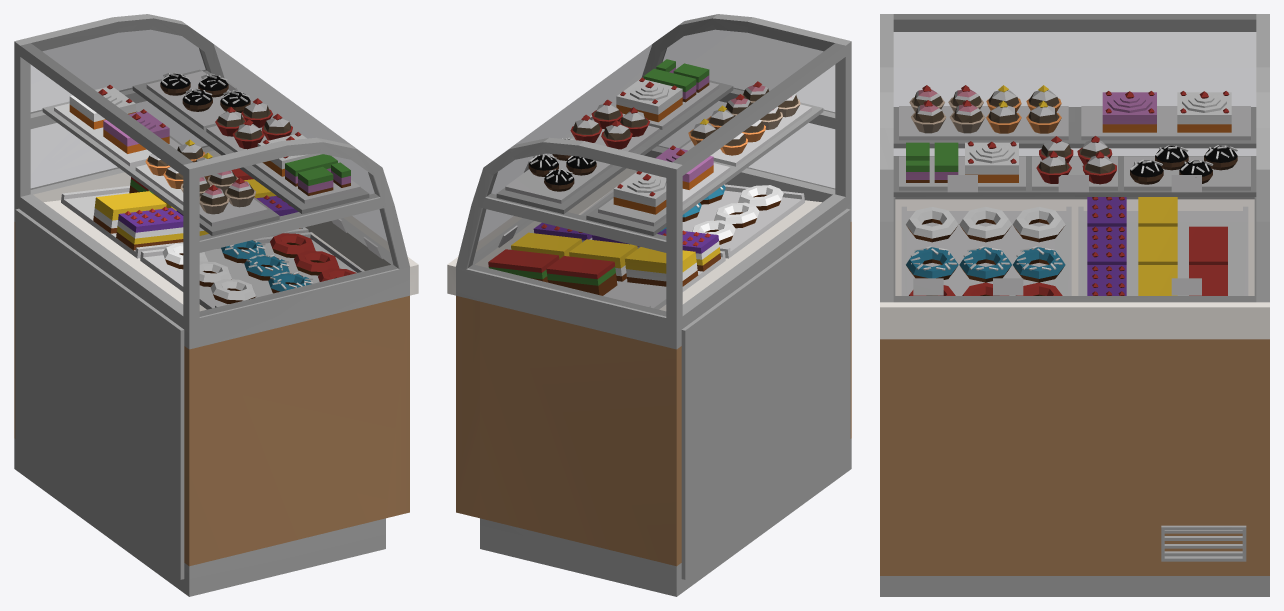
The model's file is SM_donutsCounter_03.glb.
3 renders of one model, left to right at view 1: azimuth 30°, elevation 25°; view 2: azimuth 150°, elevation 25°; view 3: azimuth 270°, elevation 25°, orthographic. The views are drawn at different scales.
Visible parts, largest first — view 1: SM_donutsCounter_03; view 2: SM_donutsCounter_03; view 3: SM_donutsCounter_03.
Boxes of the visible parts, box(x1,y1,x2,y2) form: SM_donutsCounter_03: box(14, 14, 418, 596); SM_donutsCounter_03: box(447, 14, 851, 596); SM_donutsCounter_03: box(880, 14, 1269, 596).
Size of the model in its own units: 0.7689 by 1.35 by 1.
2 materials, 1 textured.
